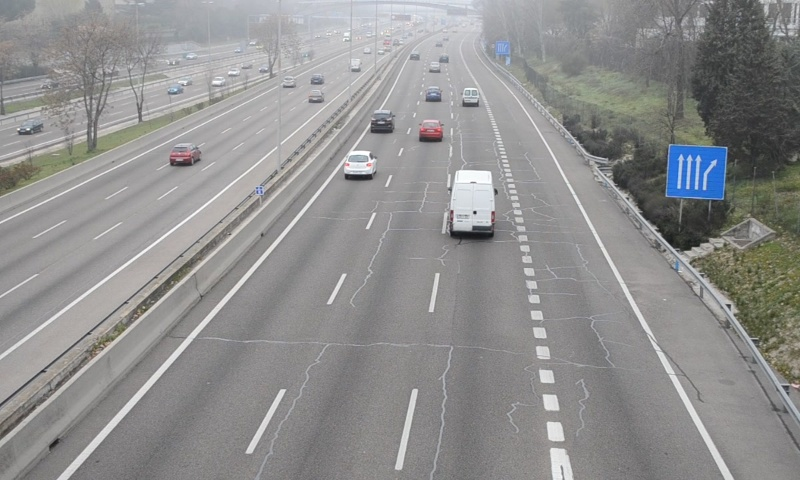car: (342, 151, 374, 176), (369, 110, 394, 134), (419, 119, 443, 142), (425, 85, 442, 103)
van: (449, 170, 496, 239), (462, 87, 480, 107)
